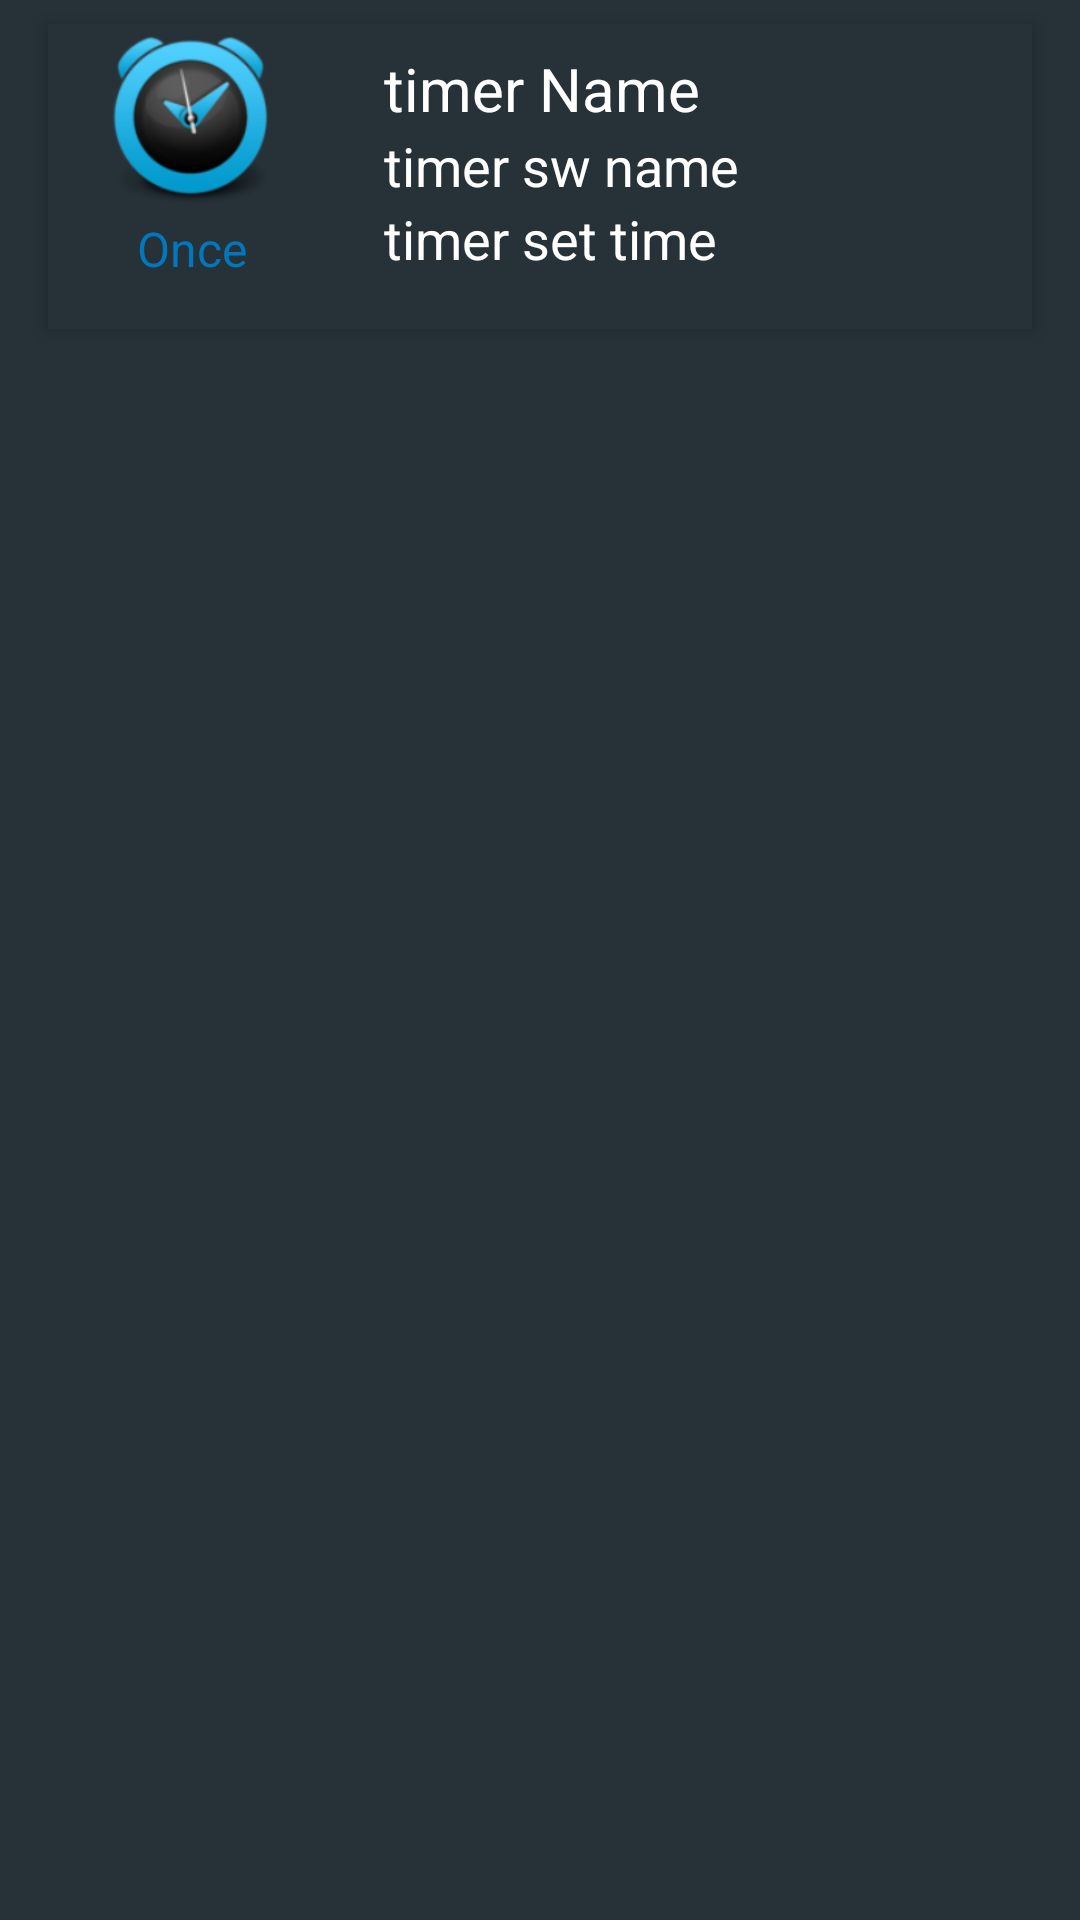

Locate icon controls on the screen. Image size 1080px×1920px, boxes as [left=x1, top=y1, right=x2, bottom=y2].
clock: [left=113, top=37, right=267, bottom=196]
